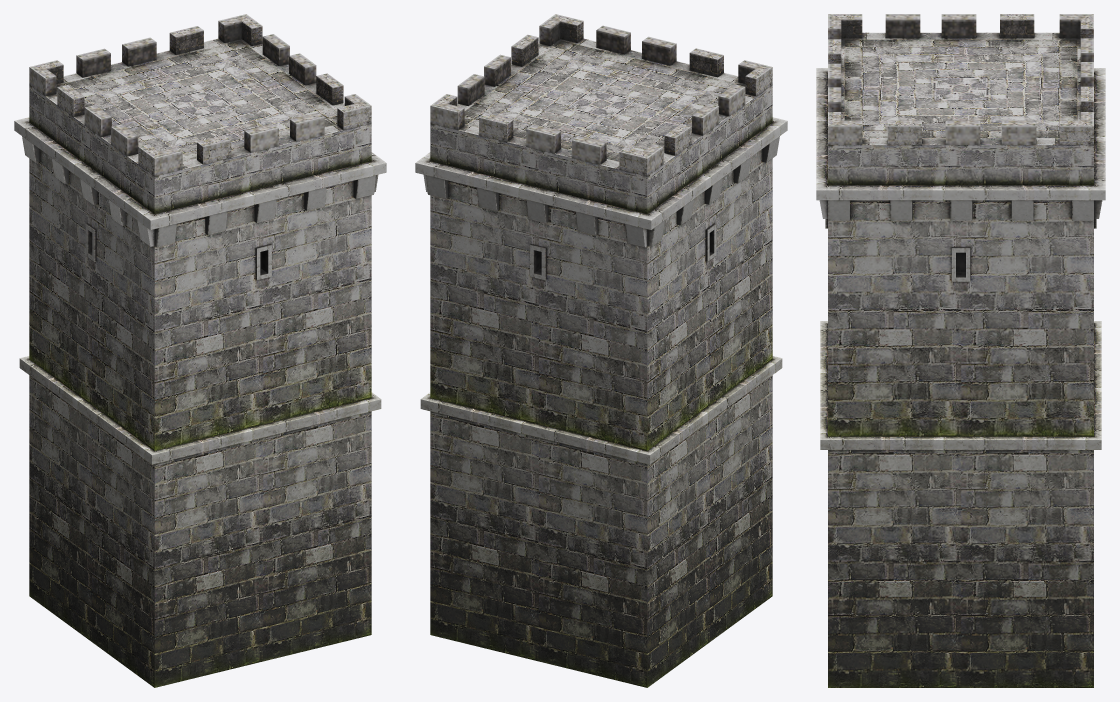
The model's file is CastleBuilding02.FBX.
The picture shows the model from 3 angles, left to right: view 1: azimuth 30°, elevation 25°; view 2: azimuth 150°, elevation 25°; view 3: azimuth 270°, elevation 25°; orthographic projection. The views are drawn at different scales.
Parts seen in each view (by area): view 1: CastleBuilding02; view 2: CastleBuilding02; view 3: CastleBuilding02.
Part boxes in pixels (x1,y1,x2,y2): CastleBuilding02: (14, 14, 386, 687); CastleBuilding02: (415, 14, 787, 687); CastleBuilding02: (816, 14, 1105, 687).
Bounding box in the file's own units: 1418 × 3038 × 1418.
